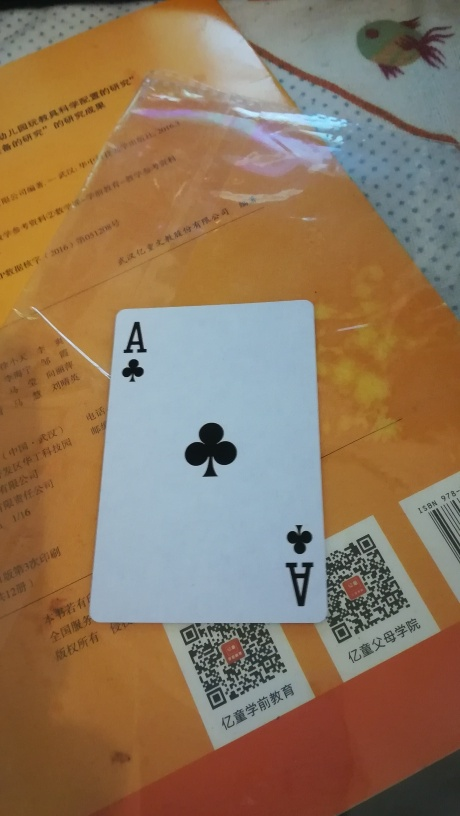mh a: (91, 297, 327, 626)
